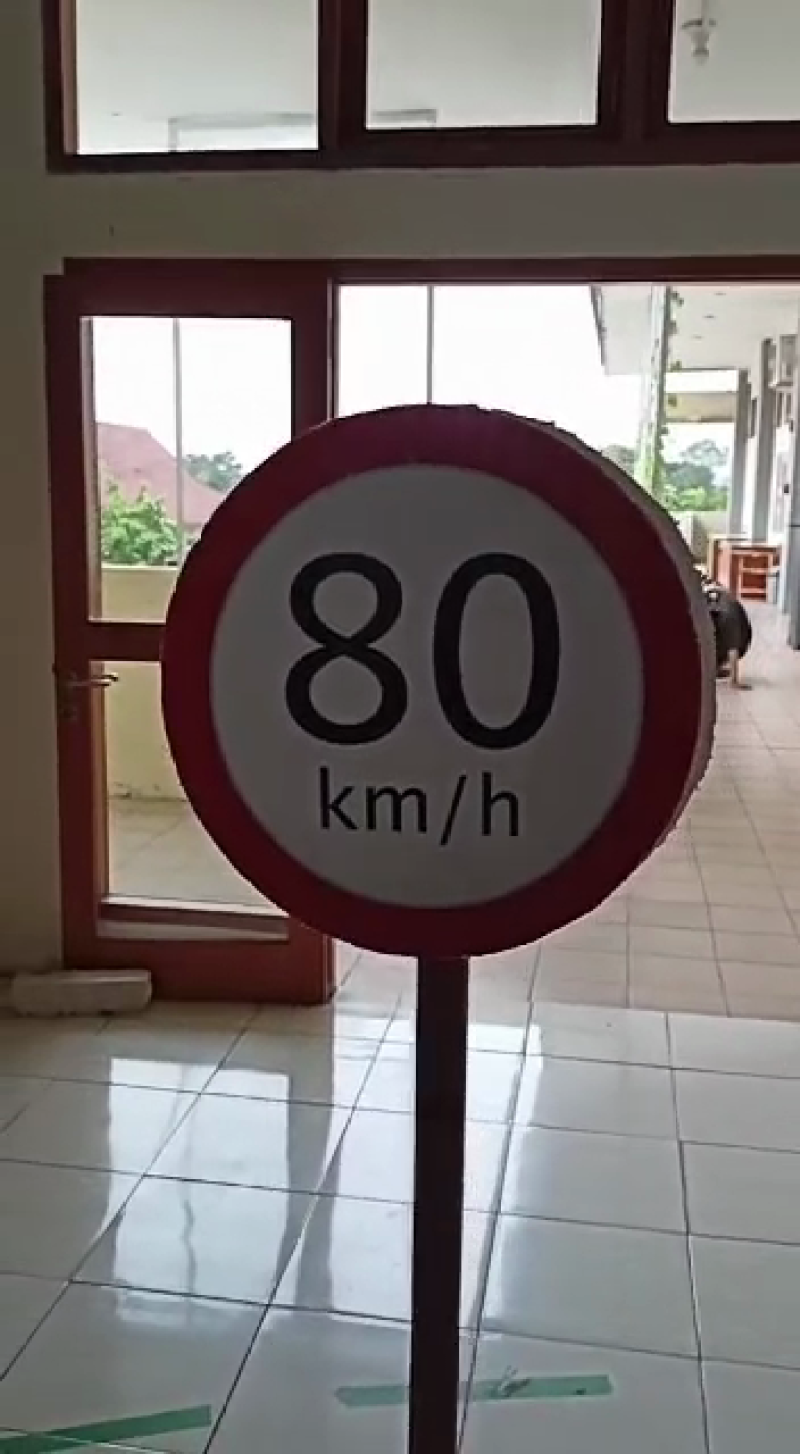batas maksimal 80kmperjam: (163, 396, 702, 964)
